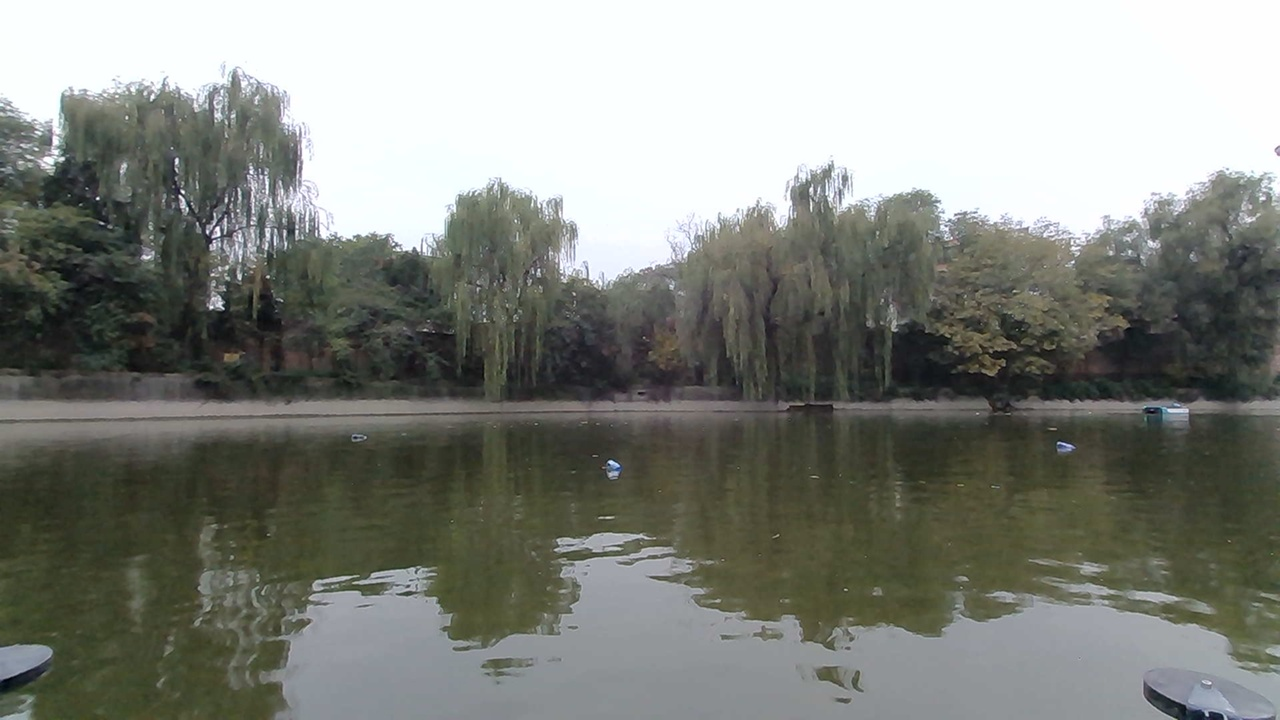bottle: (582, 446, 632, 483), (1044, 429, 1089, 463), (344, 418, 376, 452)
